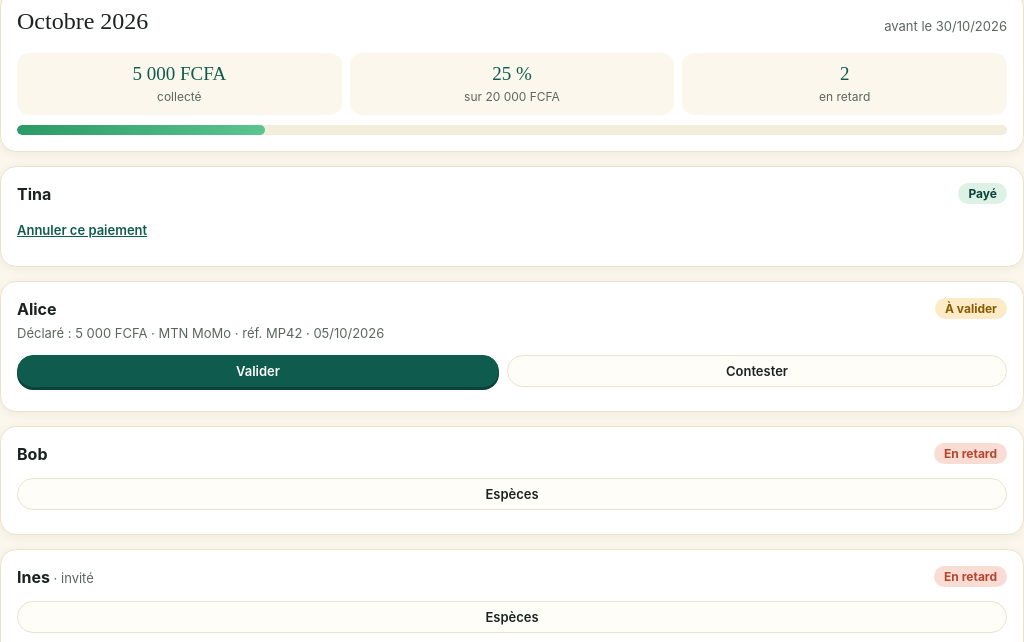
Test: onglet Cycle › espèces : le bouton est désactivé pendant l'envoi
Step 1. Click the button with aria-label "Saisir des espèces pour Bob" → click(512, 494), box 17,478 -> 1007,510
(page scrolled)
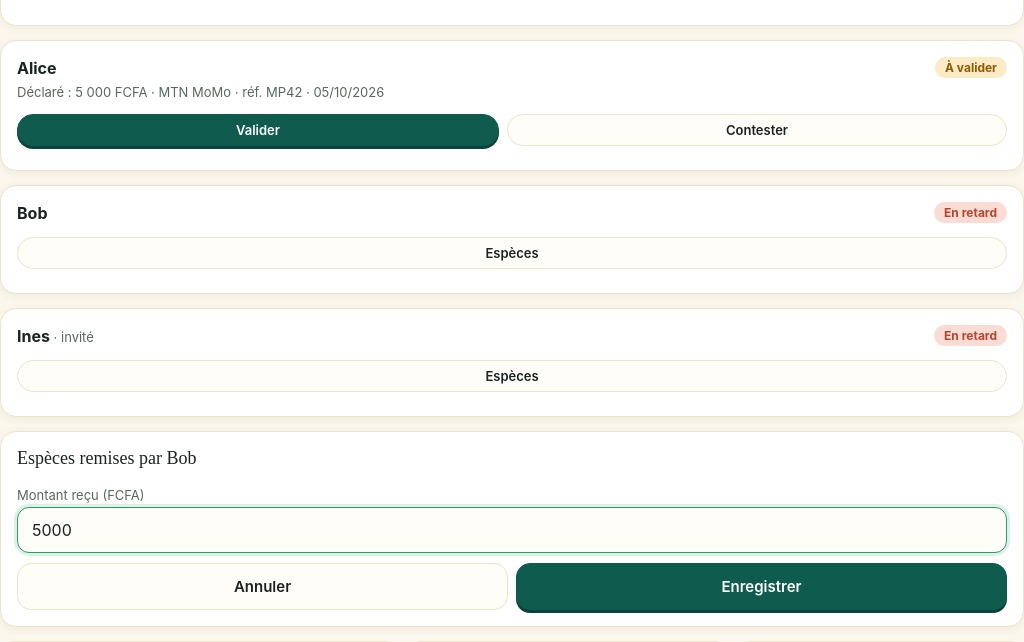
Step 2. Click the button with aria-label "Enregistrer les espèces" → click(762, 586), box 516,563 -> 1007,610
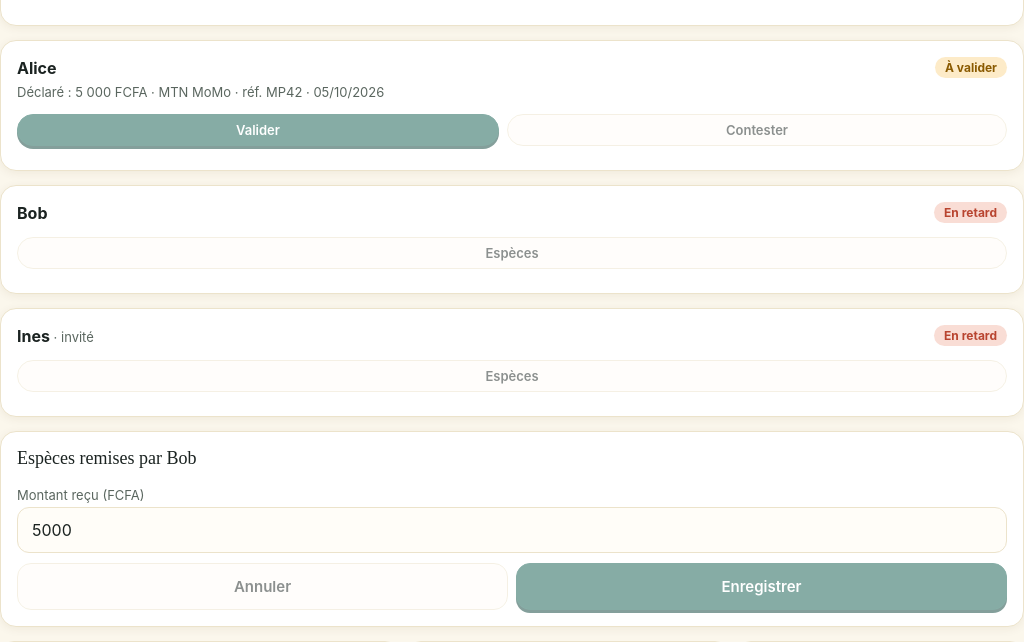
Now the button with aria-label "Enregistrer les espèces" is disabled, box 516,563 -> 1007,610
